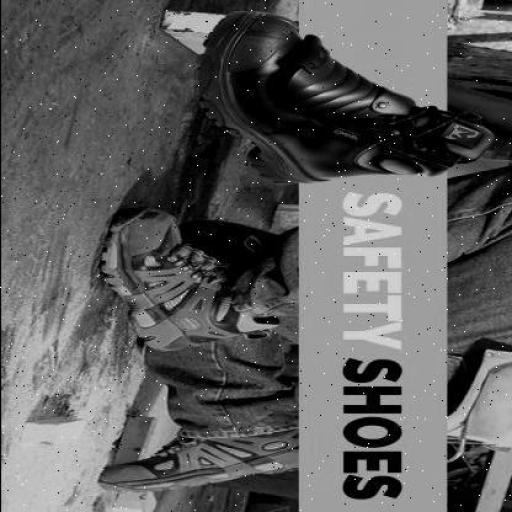safety_shoe: (91, 199, 249, 354), (92, 423, 296, 495)
